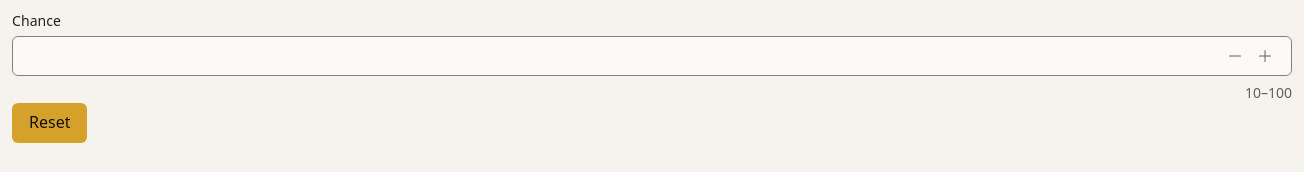
brings a typed value above the maximum back inside the range when the field loses focus
The width and height of the screenshot is (1304, 172).
In the number field: (619, 56) [25,36,1213,74], type "500"
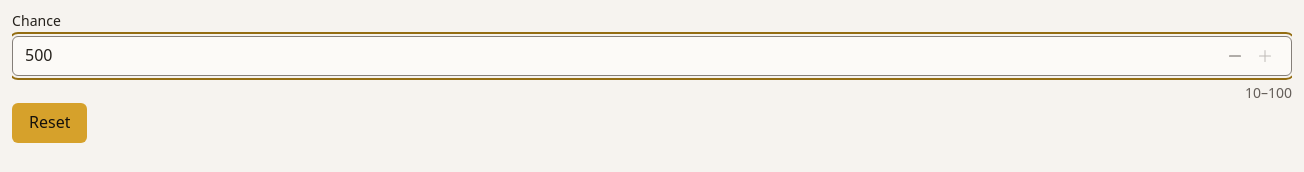
Press Tab
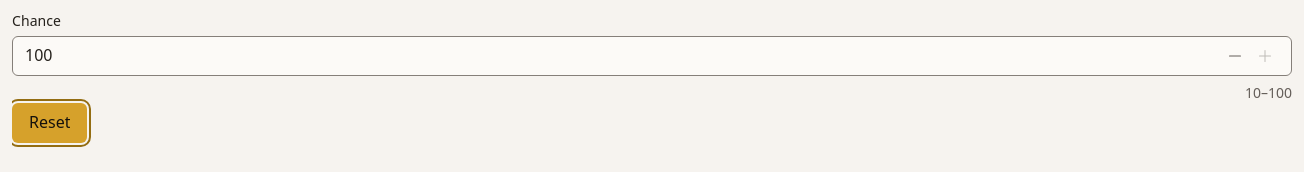
Now the number field holds "100", box [25,36,1213,74]
